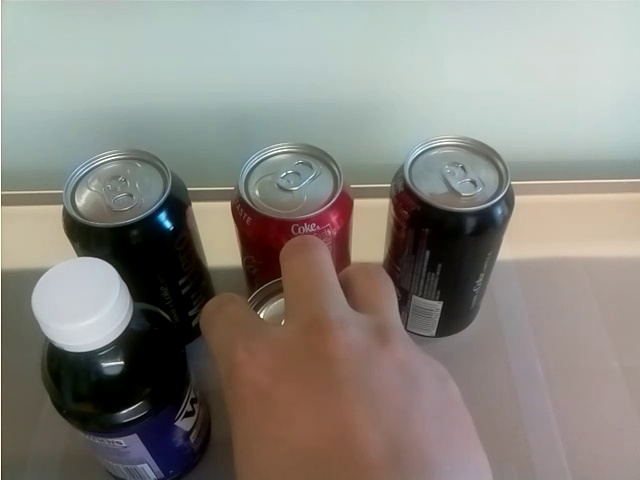cocacola: (391, 133, 516, 338), (231, 137, 354, 273), (58, 147, 206, 257)
hand: (192, 233, 489, 480)
juice: (25, 258, 212, 480)
